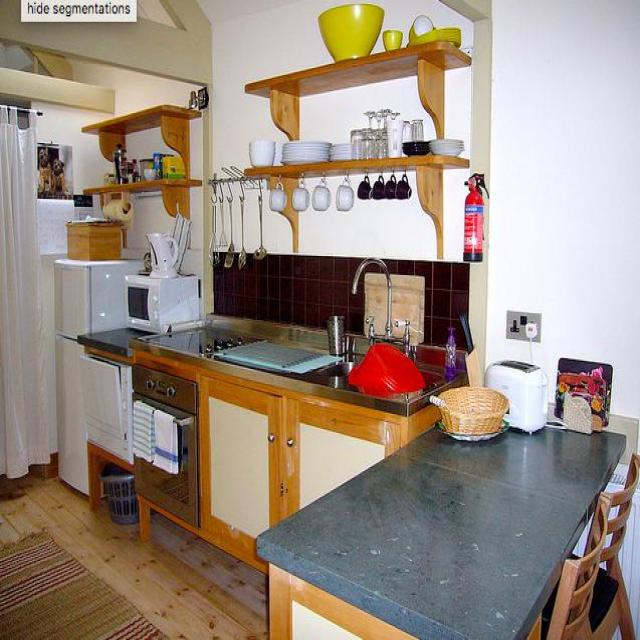dishwasher: (78, 350, 132, 463)
